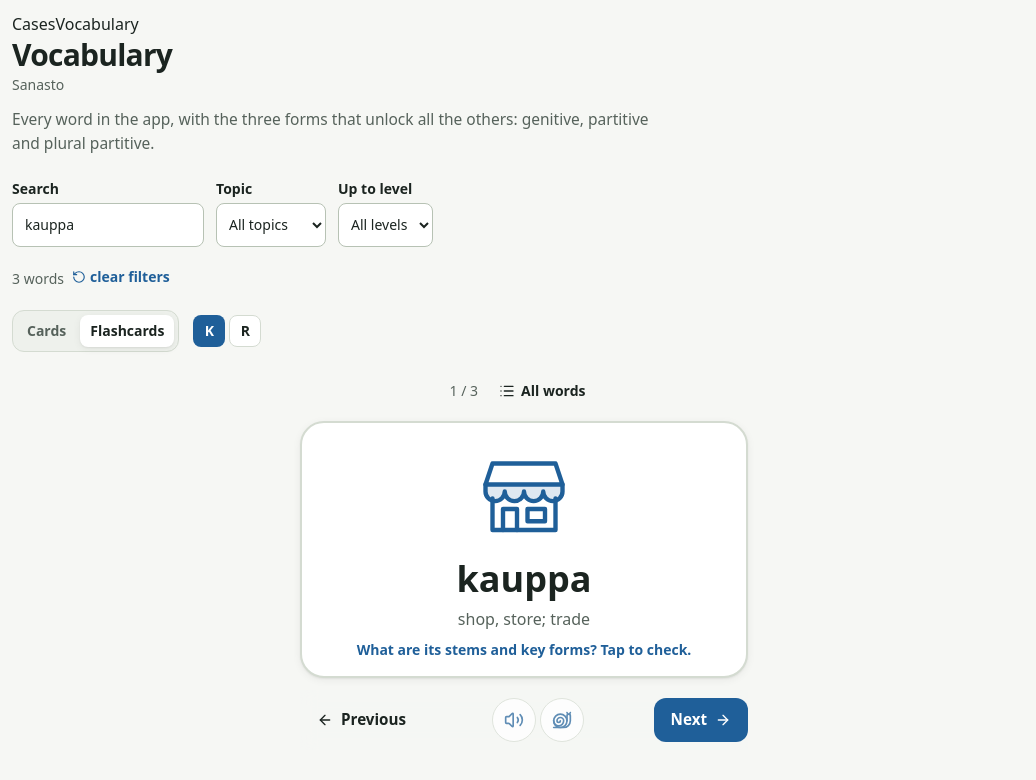
Test case: Vocabulary flashcards: edges › intermediate mode names the forms in Finnish
Click the button "kauppa" at x=524, y=579, box left=456, top=559, right=592, bottom=599
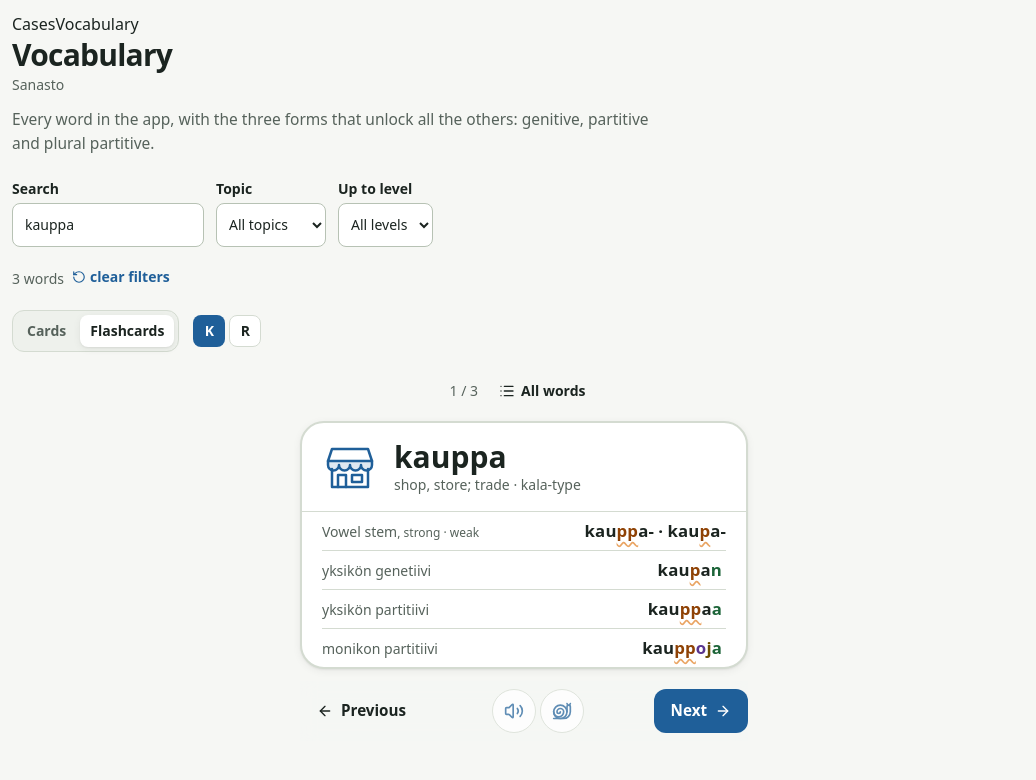
Now the text "yksikön genetiivi" is shown, box left=322, top=561, right=431, bottom=581
Now the text "yksikön partitiivi" is shown, box left=322, top=600, right=429, bottom=620
Now the text "monikon partitiivi" is shown, box left=322, top=639, right=438, bottom=659
